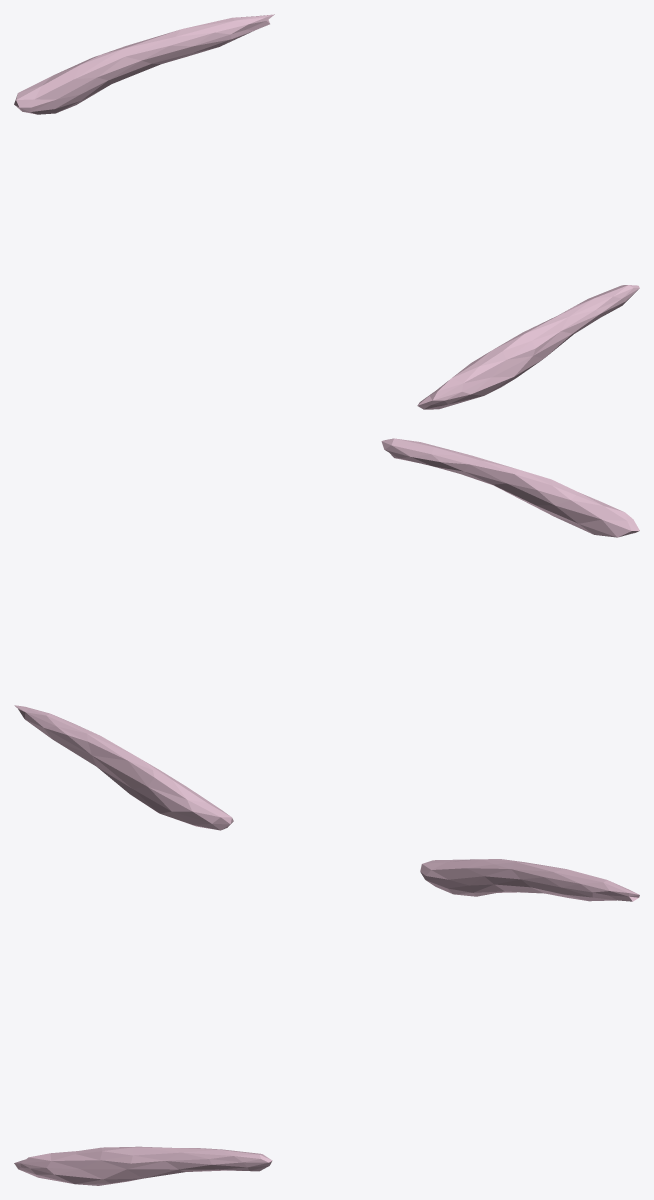
3 renders of one model, top to bottom at view 1: azimuth 30°, elevation 25°; view 2: azimuth 150°, elevation 25°; view 3: azimuth 330°, elevation 25°, orthographic.
Parts seen in each view (by area): view 1: 135.obj; view 2: 135.obj; view 3: 135.obj.
Part boxes in pixels (x1,y1,x2,y2): 135.obj: (14,14,639,409); 135.obj: (14,438,639,830); 135.obj: (14,859,639,1185).
Size of the model in its own units: 987 by 246 by 2932.
